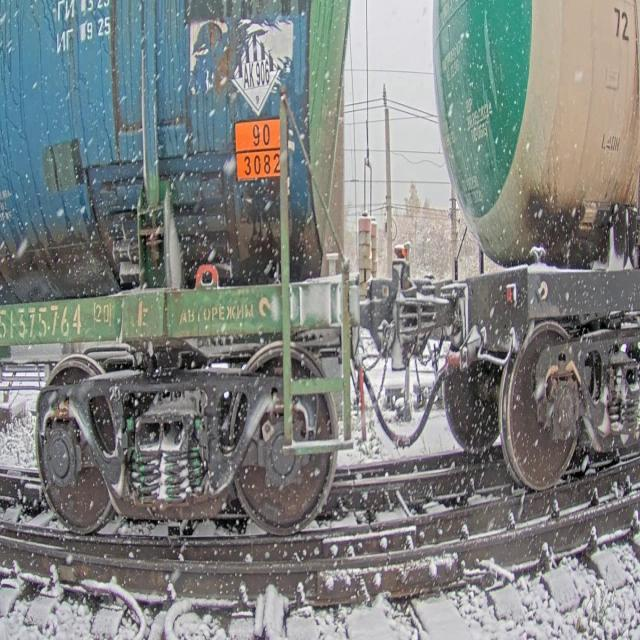tank: (0, 0, 369, 545), (423, 0, 640, 507)
